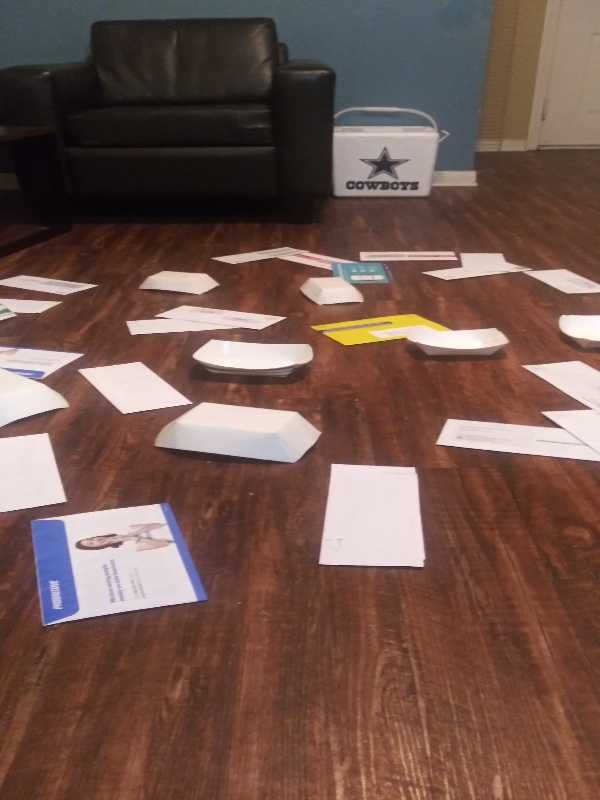plate: (152, 401, 324, 469), (192, 337, 320, 380), (1, 363, 75, 431), (396, 326, 513, 364), (133, 269, 223, 297), (297, 272, 367, 307), (552, 311, 600, 356), (1, 298, 19, 326)
